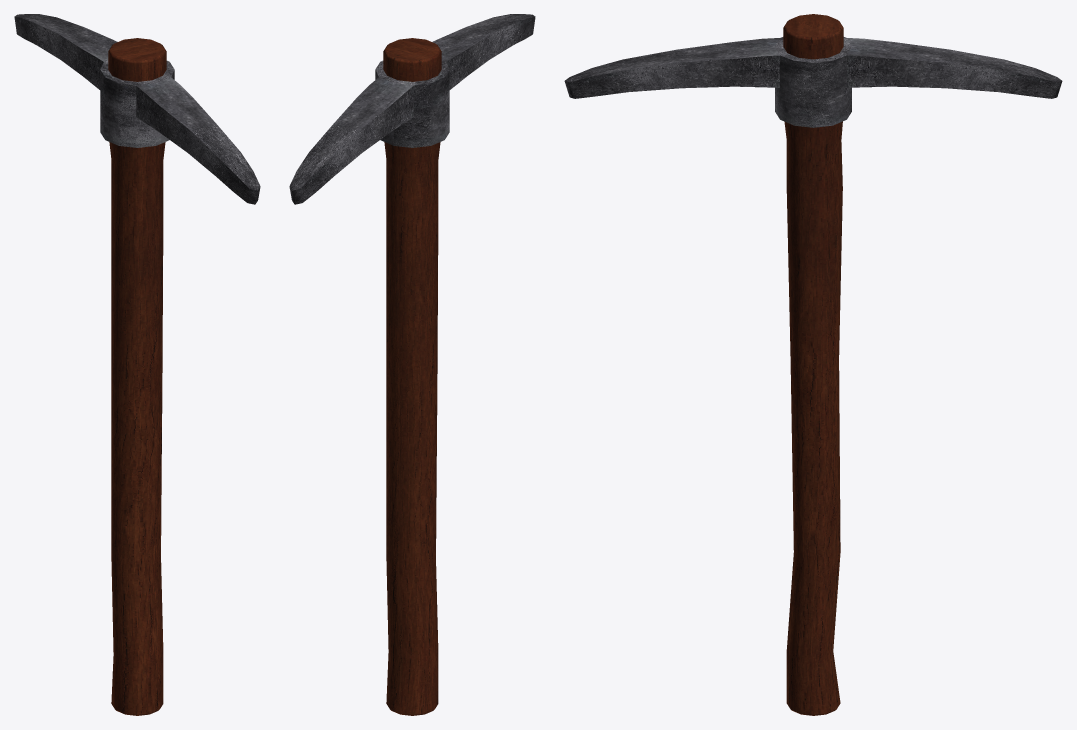
File: Pickaxe.fbx
3 renders of one model, left to right at view 1: azimuth 30°, elevation 25°; view 2: azimuth 150°, elevation 25°; view 3: azimuth 270°, elevation 25°, orthographic. The views are drawn at different scales.
Parts seen in each view (by area): view 1: pCylinder1; view 2: pCylinder1; view 3: pCylinder1.
Part boxes in pixels (x1,y1,x2,y2): pCylinder1: (14,14,260,715); pCylinder1: (289,14,535,715); pCylinder1: (564,14,1062,715).
Size of the model in its own units: 0.5347 by 5.2 by 3.45.
